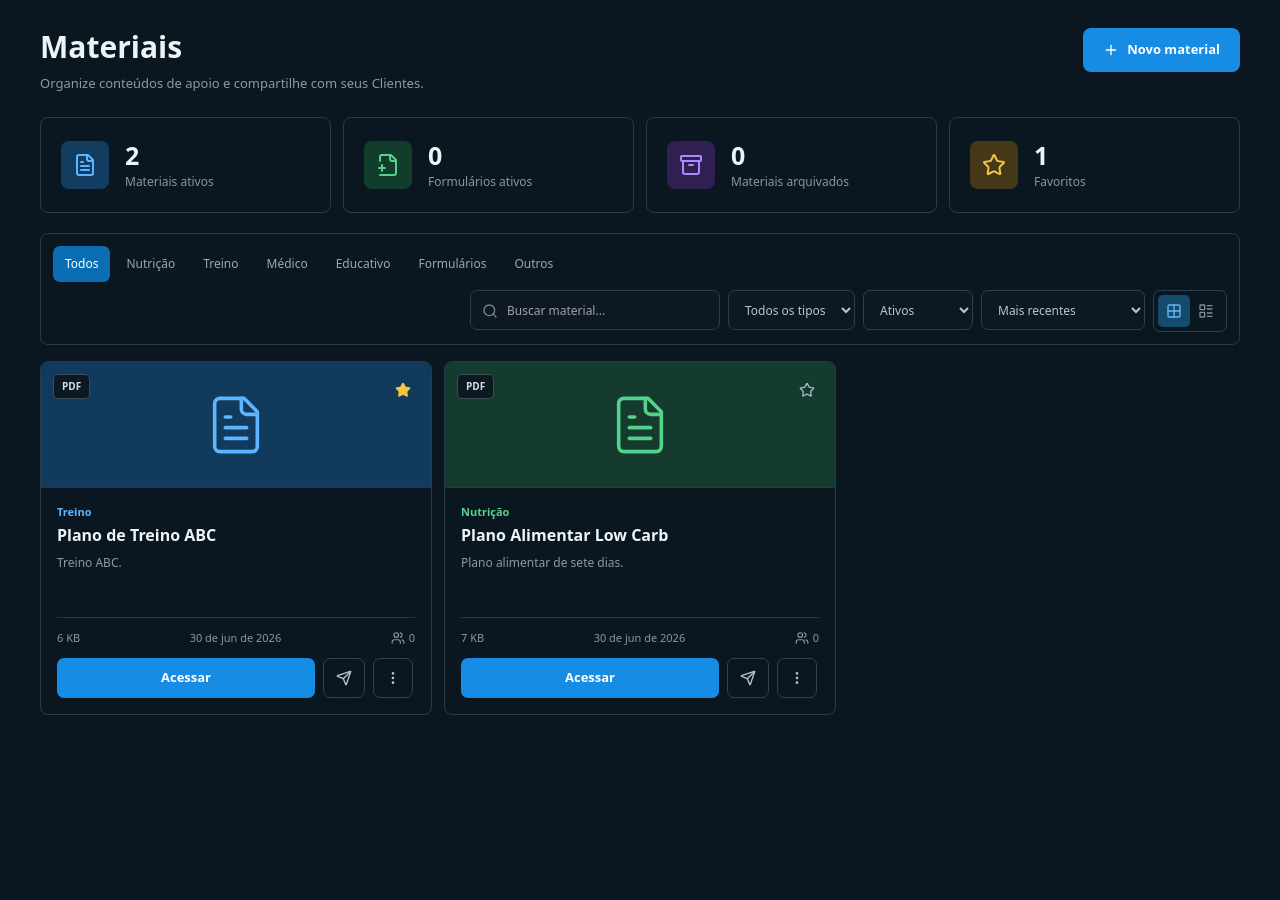
Test: PartnerMaterialsView › renderiza biblioteca sem Pacientes ou Cardio e filtra por categoria
Expected: the heading "Materiais" is shown, [40, 26, 182, 67]
Expected: the text "Formulários ativos" is shown, [428, 176, 532, 188]
Click the button "Treino". click: [221, 264]
box: [191, 246, 250, 282]
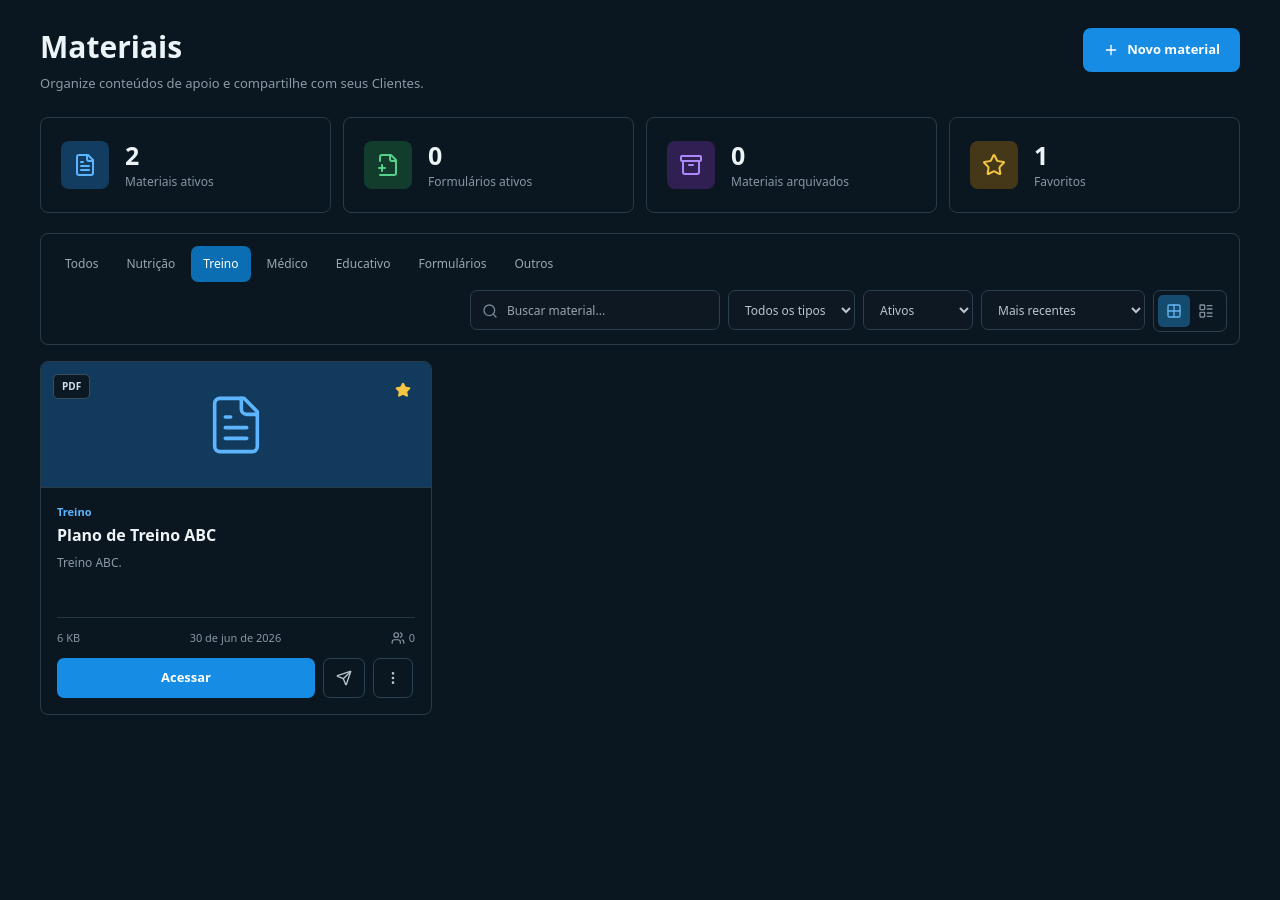
Expected: the link "Plano de Treino ABC" is shown, [57, 524, 216, 546]
Expected: the link "Plano Alimentar Low Carb" is gone
Click the button named "Visualização em lista". click: [1206, 311]
box: [1190, 295, 1222, 327]
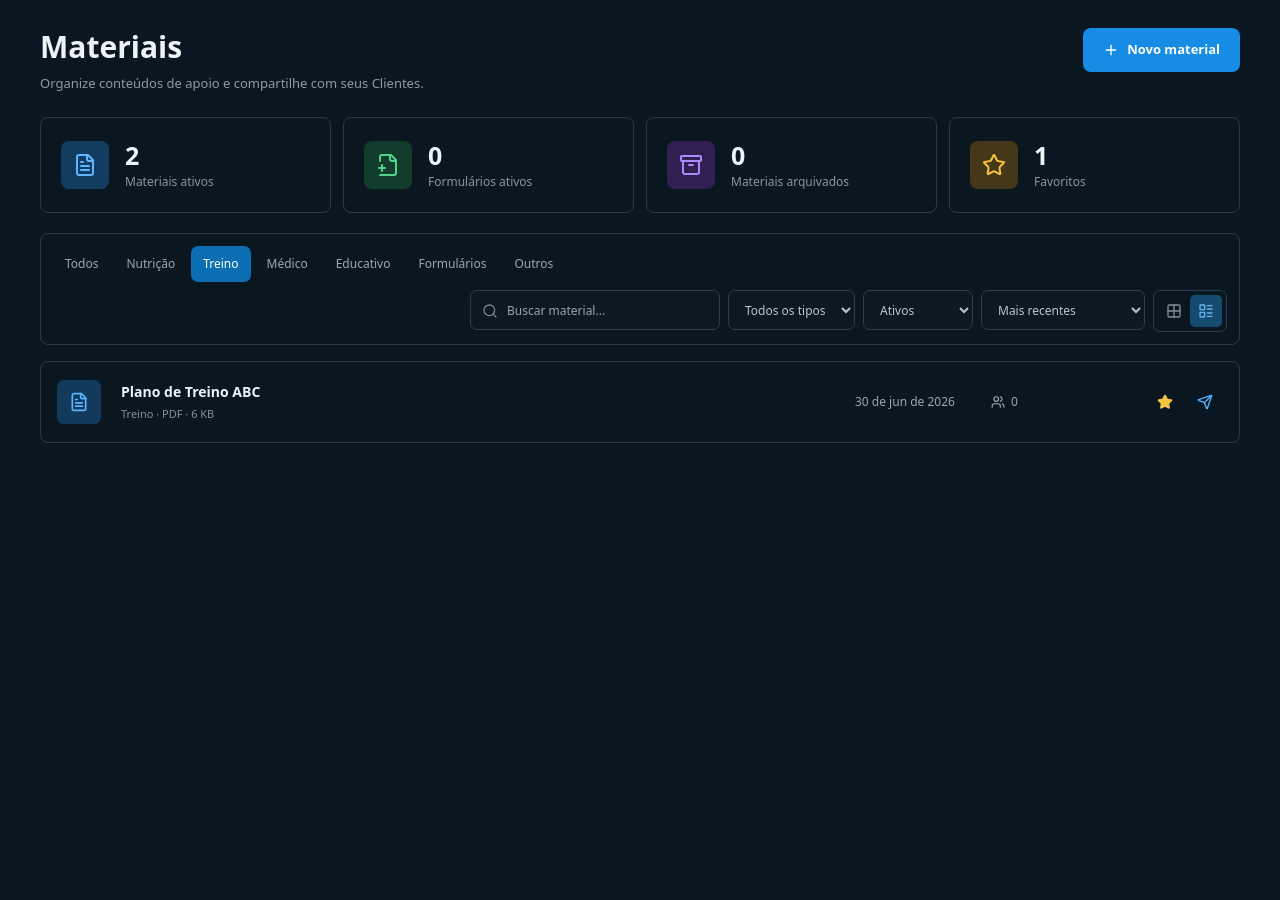
Expected: the text "PDF · 6 KB" is shown, [121, 406, 214, 421]
